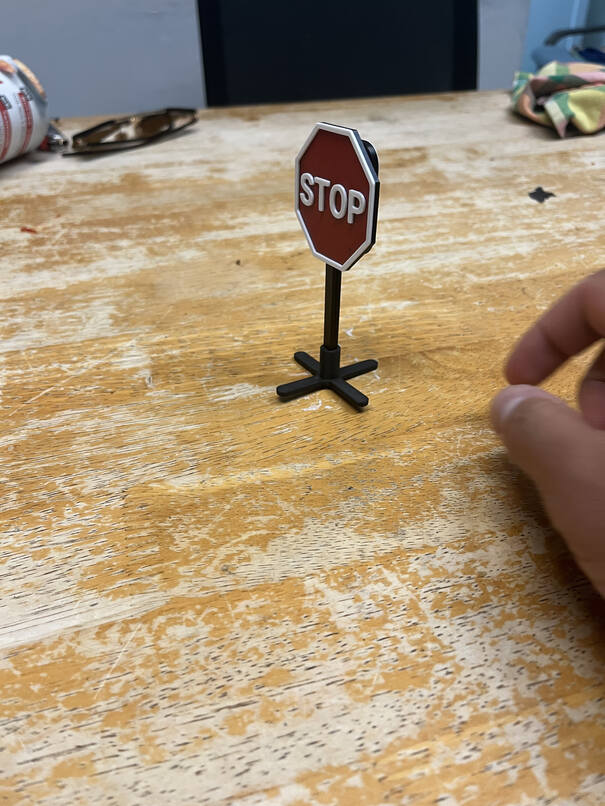sign_stop: (291, 120, 374, 272)
